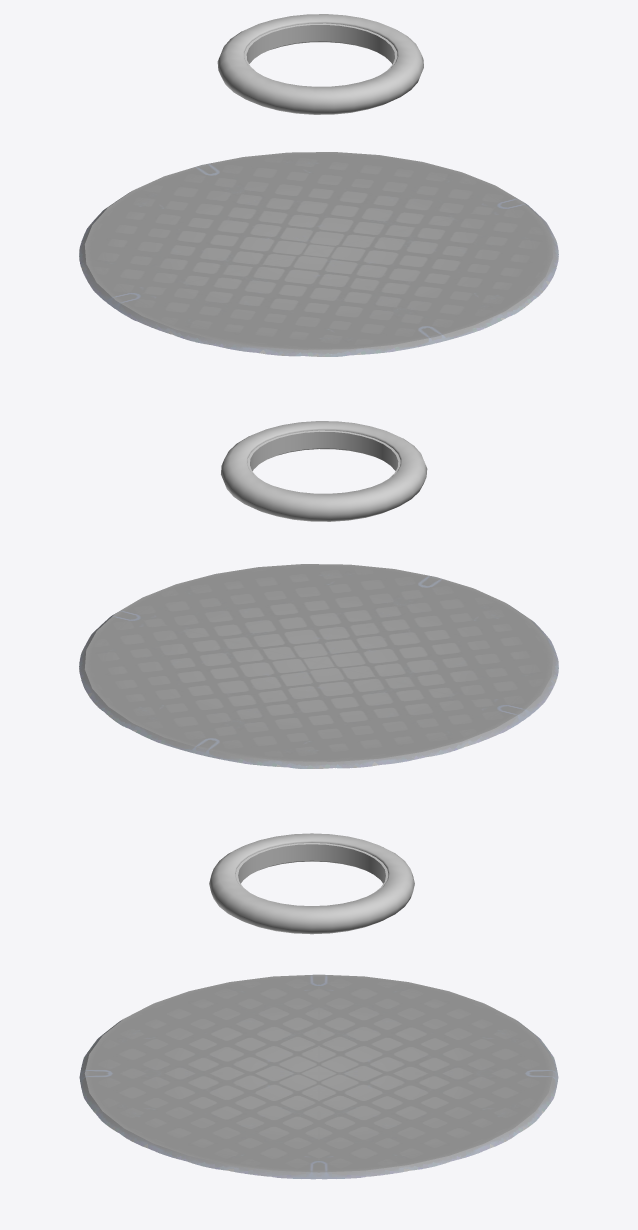
The model's file is pref_TPC_v2_NeutralScoreArea03_winter_purple_interfere_lv3.fbx.
3 renders of one model, top to bottom at view 1: azimuth 30°, elevation 25°; view 2: azimuth 150°, elevation 25°; view 3: azimuth 270°, elevation 25°, orthographic.
Visible parts, largest first — view 1: sm_prop_platform06a_lv3, sm_prop_platform06b_lv3; view 2: sm_prop_platform06a_lv3, sm_prop_platform06b_lv3; view 3: sm_prop_platform06a_lv3, sm_prop_platform06b_lv3.
Boxes of the visible parts, x1,y1,x2,y2 form: sm_prop_platform06a_lv3: [79, 152, 558, 356]; sm_prop_platform06b_lv3: [217, 14, 423, 114]; sm_prop_platform06a_lv3: [79, 564, 558, 768]; sm_prop_platform06b_lv3: [221, 421, 427, 521]; sm_prop_platform06a_lv3: [79, 974, 558, 1179]; sm_prop_platform06b_lv3: [209, 833, 414, 934].
Bounding box in the file's own units: 7.46 × 2.87 × 7.46.
